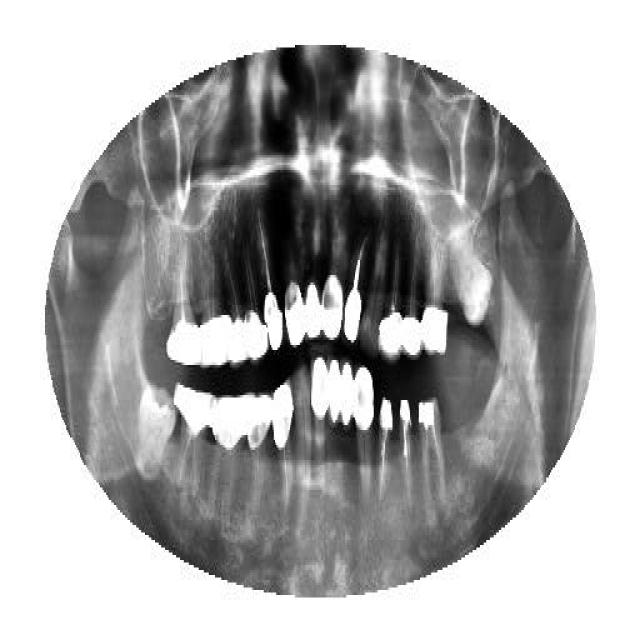Fillings: (212, 392, 248, 510), (356, 360, 380, 518), (421, 235, 449, 357), (311, 358, 334, 478), (340, 355, 356, 493), (328, 352, 342, 480), (321, 268, 344, 342), (285, 275, 305, 347), (304, 270, 321, 345)
Implant: (174, 380, 215, 500), (199, 248, 230, 368), (220, 242, 249, 368), (258, 212, 284, 352), (416, 397, 445, 515), (166, 263, 199, 365), (242, 240, 268, 365), (378, 238, 404, 360), (271, 378, 295, 510), (246, 387, 272, 505), (404, 232, 426, 360), (342, 225, 363, 340), (396, 392, 415, 510), (378, 395, 393, 513)
